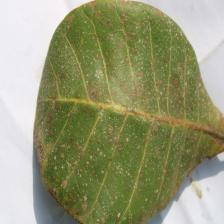red rust: (32, 0, 223, 223)
